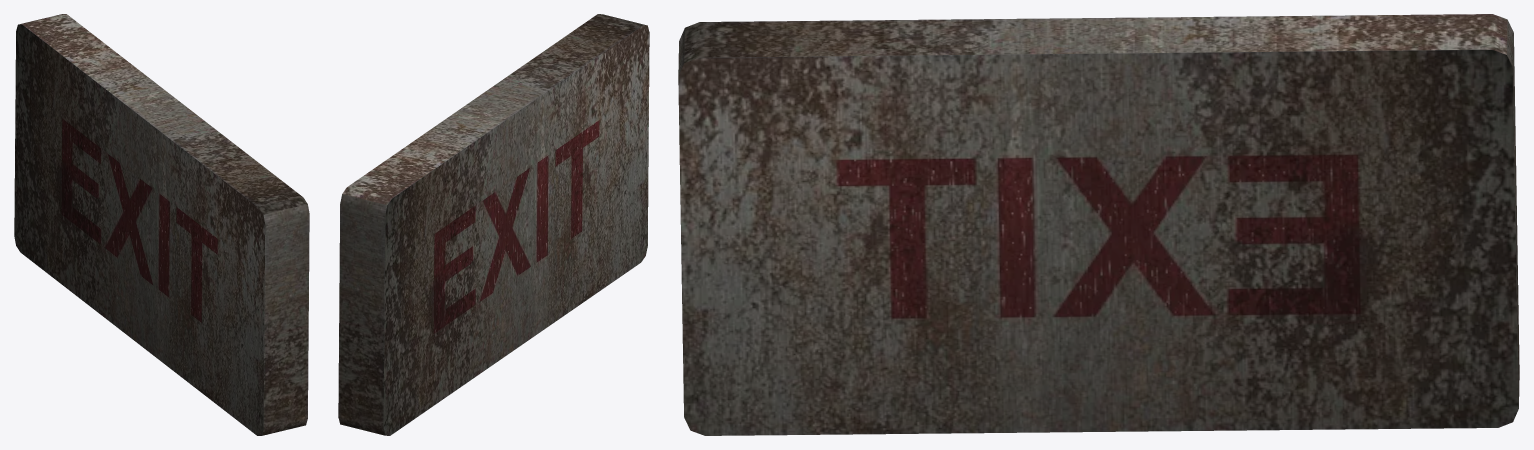
File: exit-C8LotJaz.glb
3 views of the same model, side by side, from view 1: azimuth 30°, elevation 25°; view 2: azimuth 150°, elevation 25°; view 3: azimuth 270°, elevation 25° (orthographic). The views are drawn at different scales.
Visible parts, largest first — view 1: StudyShelf_2433; view 2: StudyShelf_2433; view 3: StudyShelf_2433.
Boxes of the visible parts, x1,y1,x2,y2 form: StudyShelf_2433: [14, 14, 309, 435]; StudyShelf_2433: [338, 14, 649, 435]; StudyShelf_2433: [678, 14, 1519, 435].
Size of the model in its own units: 19.43 by 91.35 by 179.
1 material, 1 textured.
